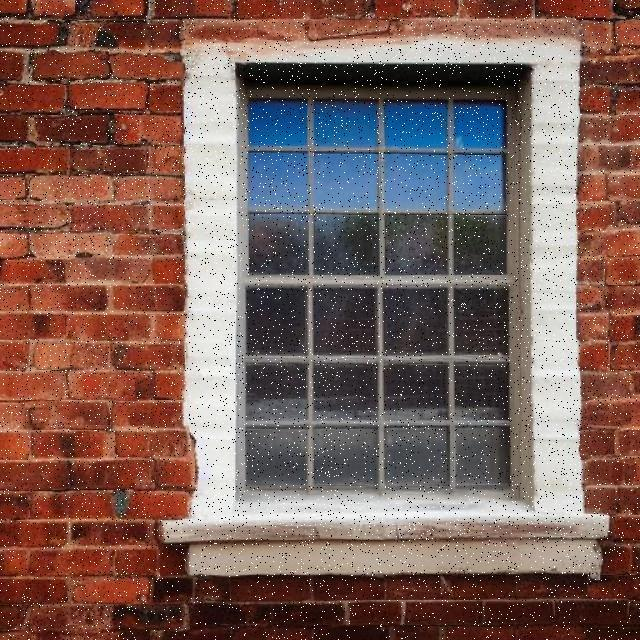window: (234, 63, 530, 508)
